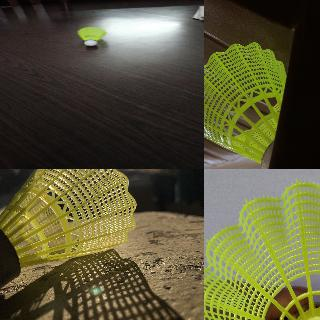shuttlecock: (0, 169, 137, 296), (204, 181, 319, 319), (204, 41, 286, 168), (77, 27, 107, 45)
